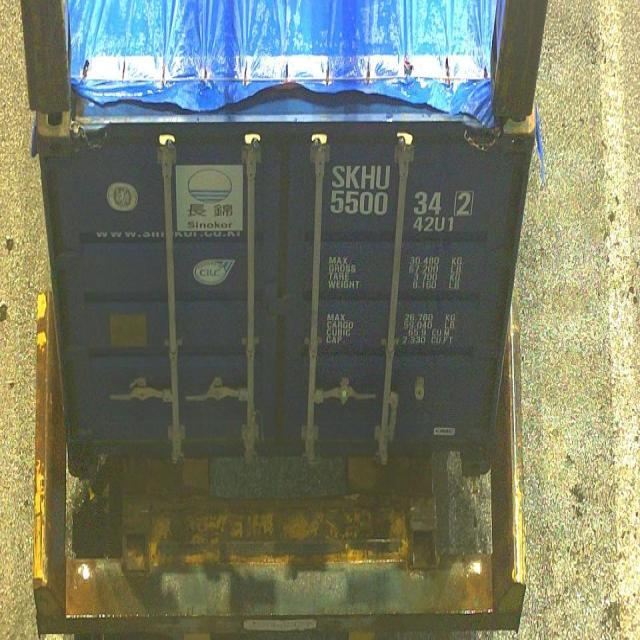ISO: (415, 214, 455, 233)
container_number: (329, 162, 487, 215)
